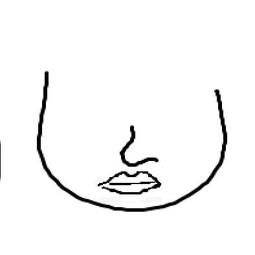cupid_mouth: (97, 169, 166, 199)
nose: (117, 124, 163, 169)
